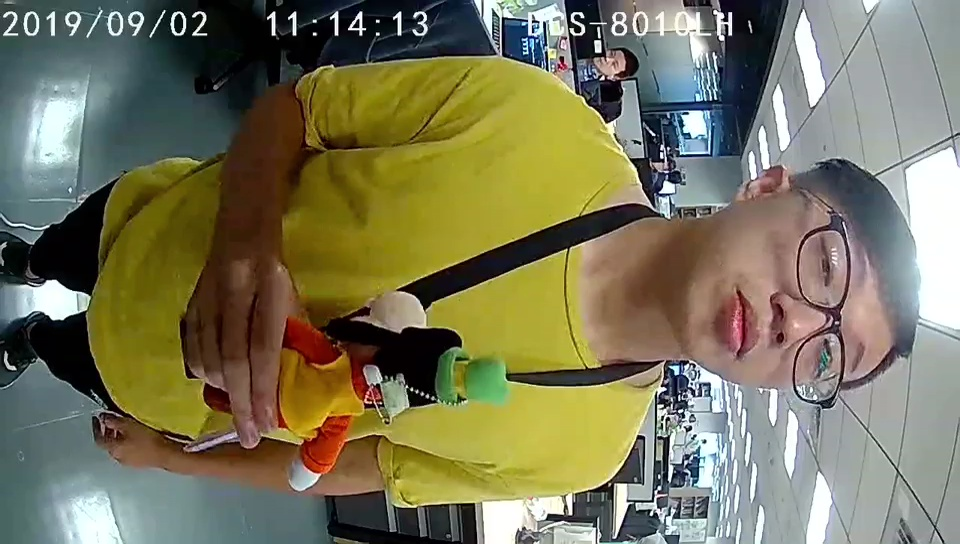goofy: (286, 318, 508, 491)
